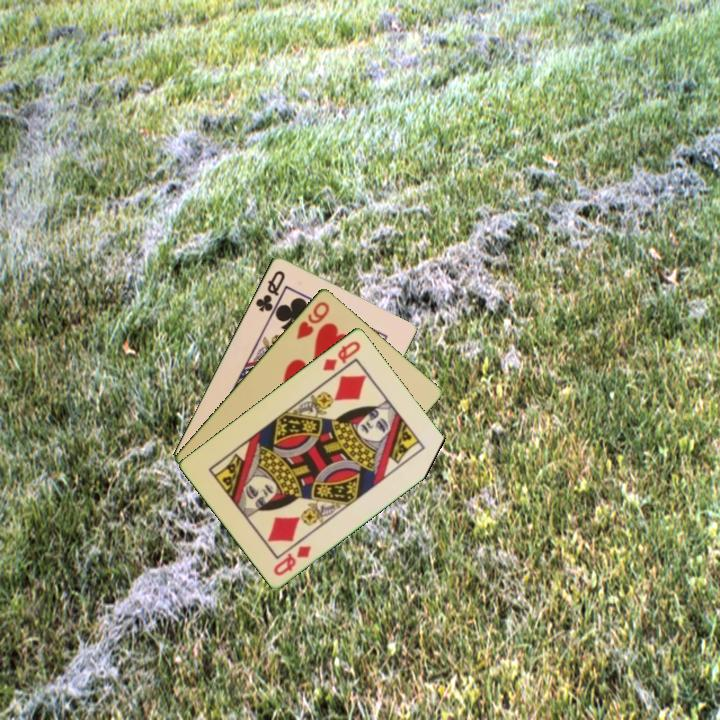9h: (292, 298, 332, 342)
Qc: (252, 266, 288, 315)
Qd: (319, 337, 364, 374), (270, 542, 314, 578)
